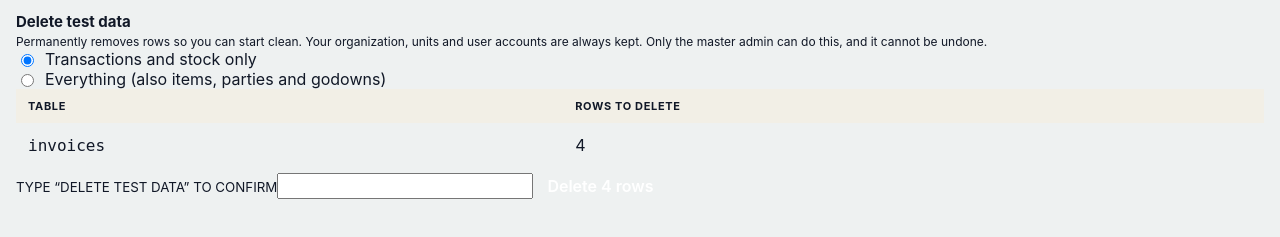
Scenario: DataReset › keeps delete disabled until the phrase is typed, then posts the chosen scope
The image size is (1280, 237).
Expected: the button "Delete 4 rows" is disabled, left=533, top=167, right=668, bottom=205
Type "delete test" into the field named "Confirmation phrase".
click(405, 186); type("delete test")  # box left=277, top=173, right=533, bottom=199
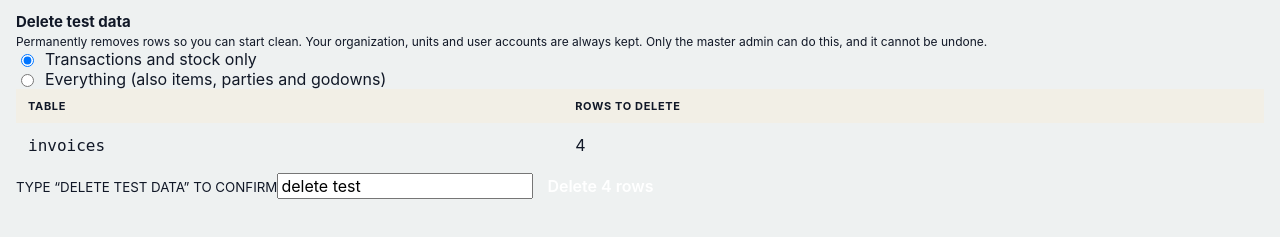
Expected: the button "Delete 4 rows" is disabled, left=533, top=167, right=668, bottom=205
Replace the text in the field named "Confirmation phrase" with "DELETE TEST DATA" at (405, 186), box left=277, top=173, right=533, bottom=199
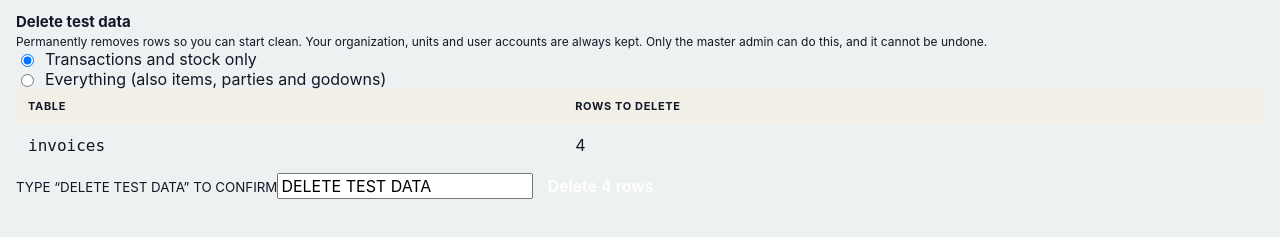
Click the button "Delete 4 rows".
click(600, 186)  # box left=533, top=167, right=668, bottom=205
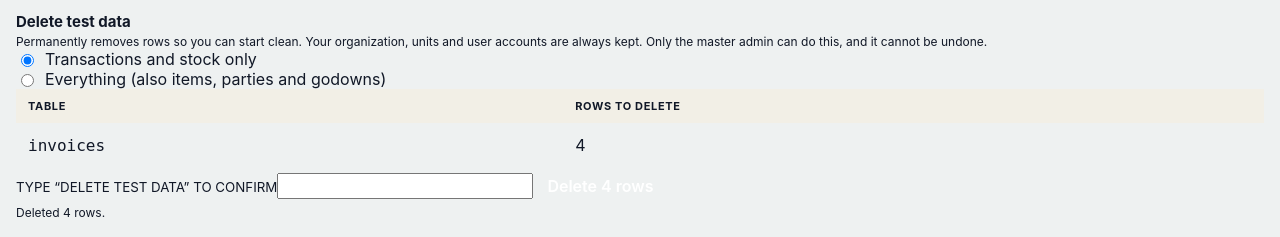
Now the message reads "Deleted 4 rows.", box left=16, top=205, right=105, bottom=220
